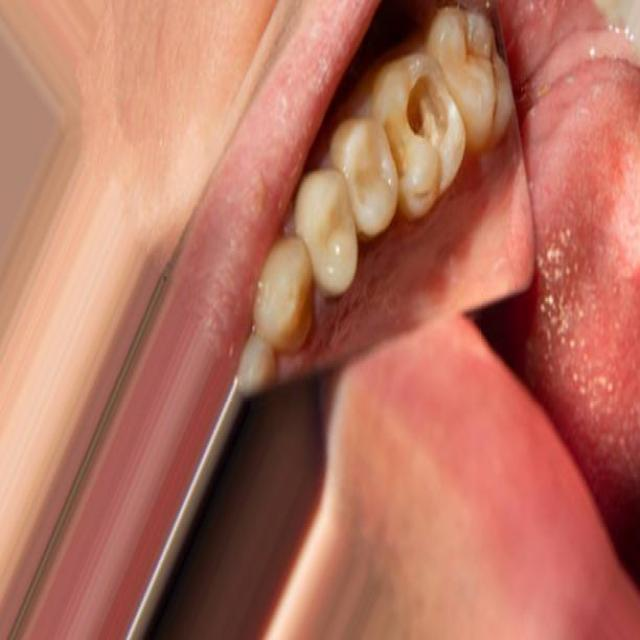caries: (374, 62, 458, 193)
